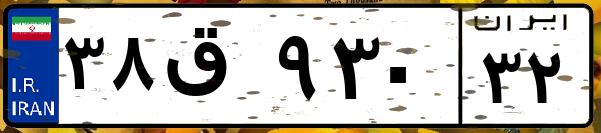0: (385, 28, 445, 110)
2: (525, 38, 570, 115)
3: (330, 28, 385, 110), (57, 26, 110, 100), (475, 38, 525, 113)
8: (110, 28, 158, 98)
9: (270, 28, 330, 110)
ق: (158, 20, 270, 120)
